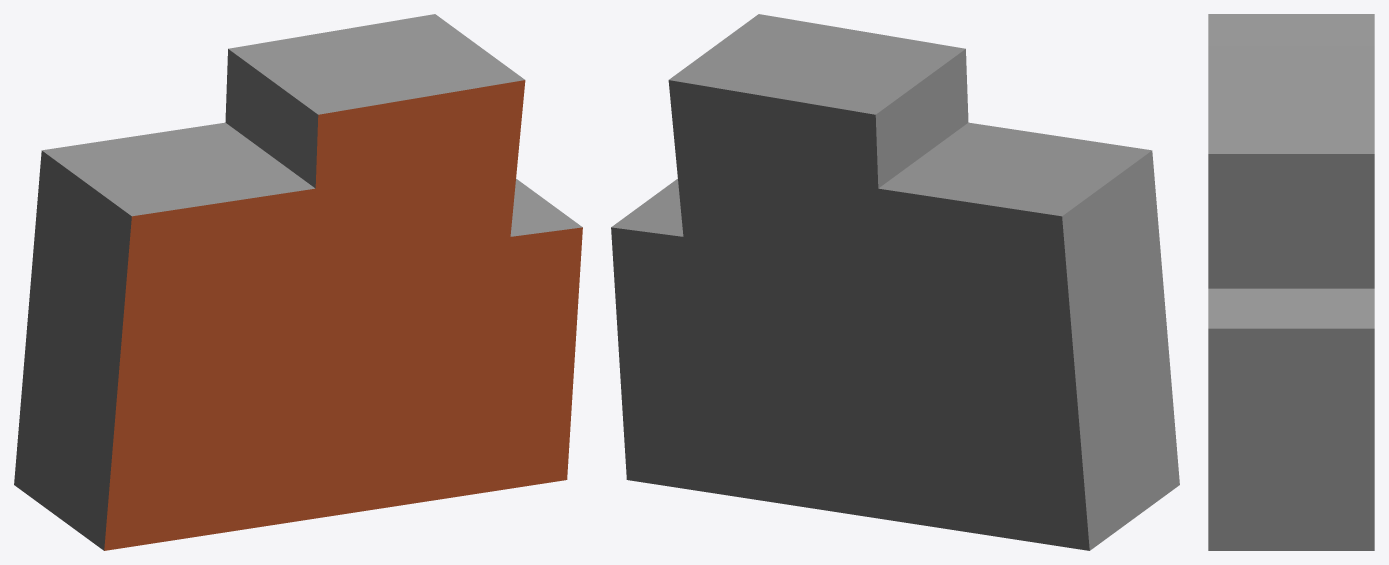
Rendered from construction_0831_assumed_A_Casa_h6m.obj.
3 views of the same model, side by side, from view 1: azimuth 30°, elevation 25°; view 2: azimuth 150°, elevation 25°; view 3: azimuth 270°, elevation 25° (orthographic). The views are drawn at different scales.
Visible parts, largest first — view 1: construction_0831_assumed_A_Casa; view 2: construction_0831_assumed_A_Casa; view 3: construction_0831_assumed_A_Casa.
Part boxes in pixels (x1,y1,x2,y2): construction_0831_assumed_A_Casa: [14, 14, 582, 550]; construction_0831_assumed_A_Casa: [611, 14, 1179, 550]; construction_0831_assumed_A_Casa: [1208, 14, 1374, 550].
Bounding box in the file's own units: 18.39 × 15.63 × 6.
